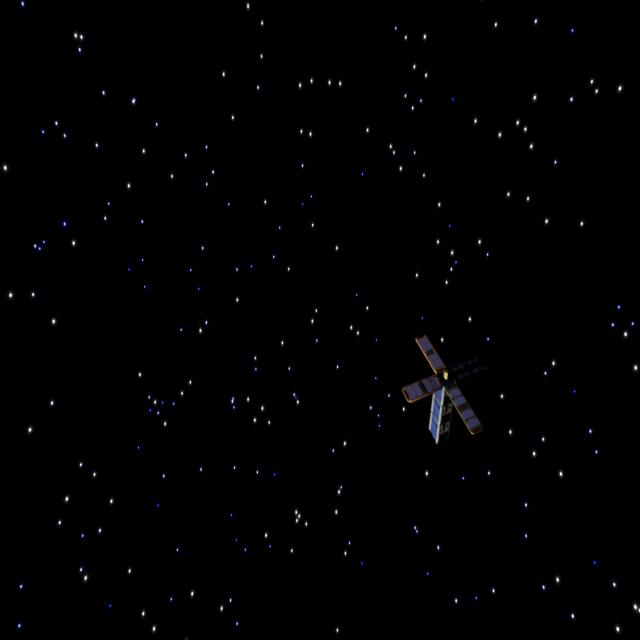satellite: (394, 322, 489, 458)
